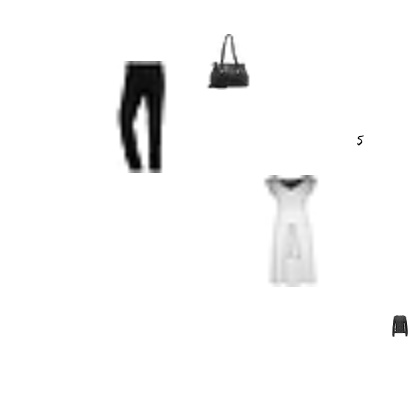0: (83, 115, 97, 129)
5: (353, 133, 367, 147)
Bag: (199, 34, 255, 90)
Dress: (233, 175, 345, 287)
Pullover: (389, 315, 411, 337)
Trouser: (85, 61, 197, 173)
